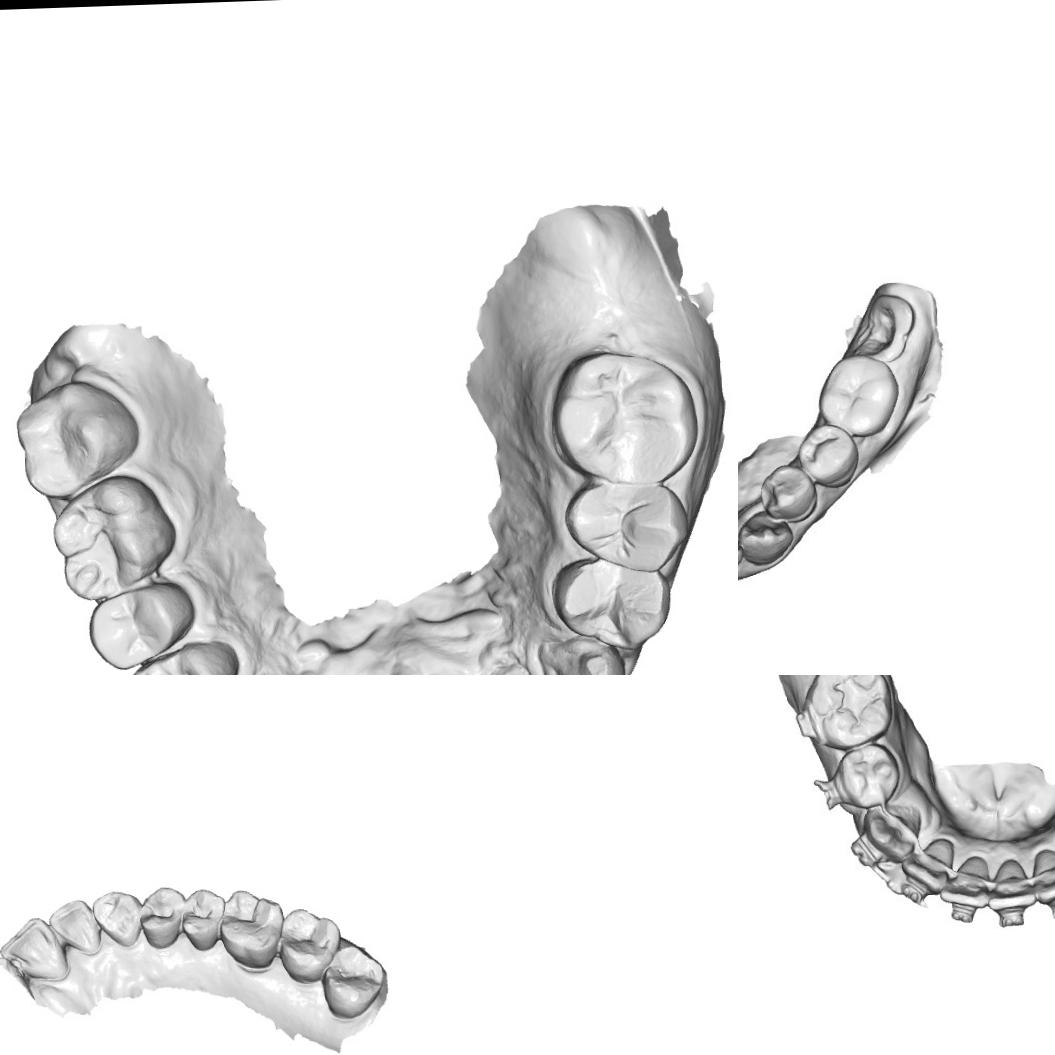canine: (860, 802, 923, 861), (538, 633, 625, 675), (90, 888, 144, 950), (740, 510, 800, 565)
incisor: (0, 913, 70, 985), (46, 897, 104, 960), (899, 836, 958, 890), (986, 856, 1038, 914), (938, 856, 990, 910), (1032, 846, 1055, 903)
molar: (550, 350, 702, 486), (50, 473, 178, 604), (12, 379, 135, 500), (814, 353, 902, 438), (806, 675, 892, 748), (216, 887, 288, 972), (318, 942, 388, 1020), (276, 905, 344, 985)
premolar: (552, 556, 677, 648), (566, 481, 688, 572), (84, 588, 196, 671), (835, 738, 902, 810), (128, 638, 244, 675), (796, 424, 858, 489), (756, 462, 816, 523), (136, 884, 188, 950), (178, 886, 227, 952)
